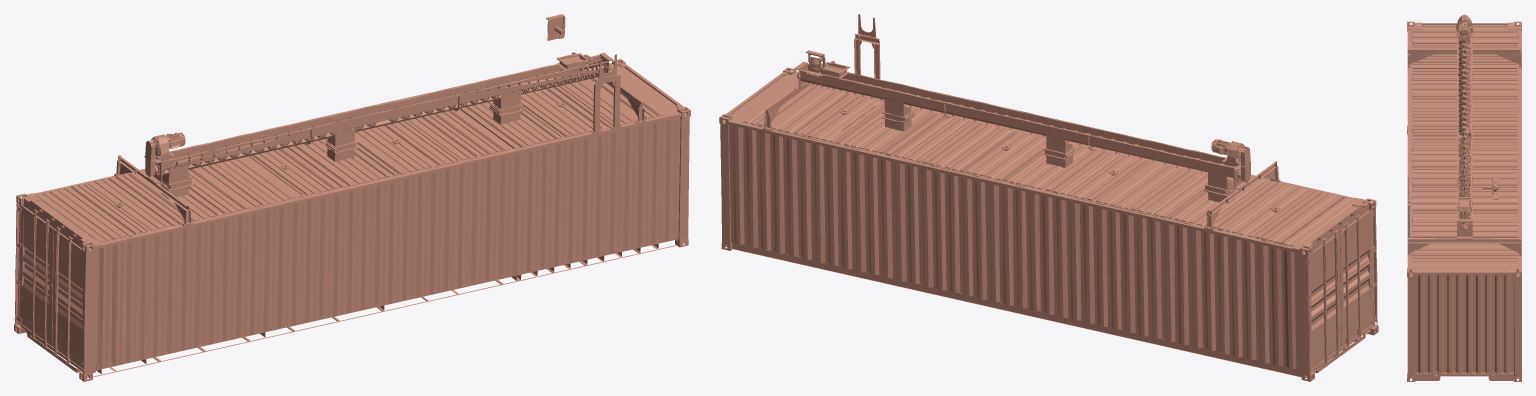
The model's file is reactor_candidate_1.glb.
3 renders of one model, left to right at view 1: azimuth 30°, elevation 25°; view 2: azimuth 150°, elevation 25°; view 3: azimuth 270°, elevation 25°, orthographic. The views are drawn at different scales.
Visible parts, largest first — view 1: world; view 2: world; view 3: world.
Boxes of the visible parts, x1,y1,x2,y2 form: world: (14, 14, 690, 381); world: (719, 14, 1378, 381); world: (1407, 14, 1521, 381).
Size of the model in its own units: 12.28 by 4.02 by 2.44.
